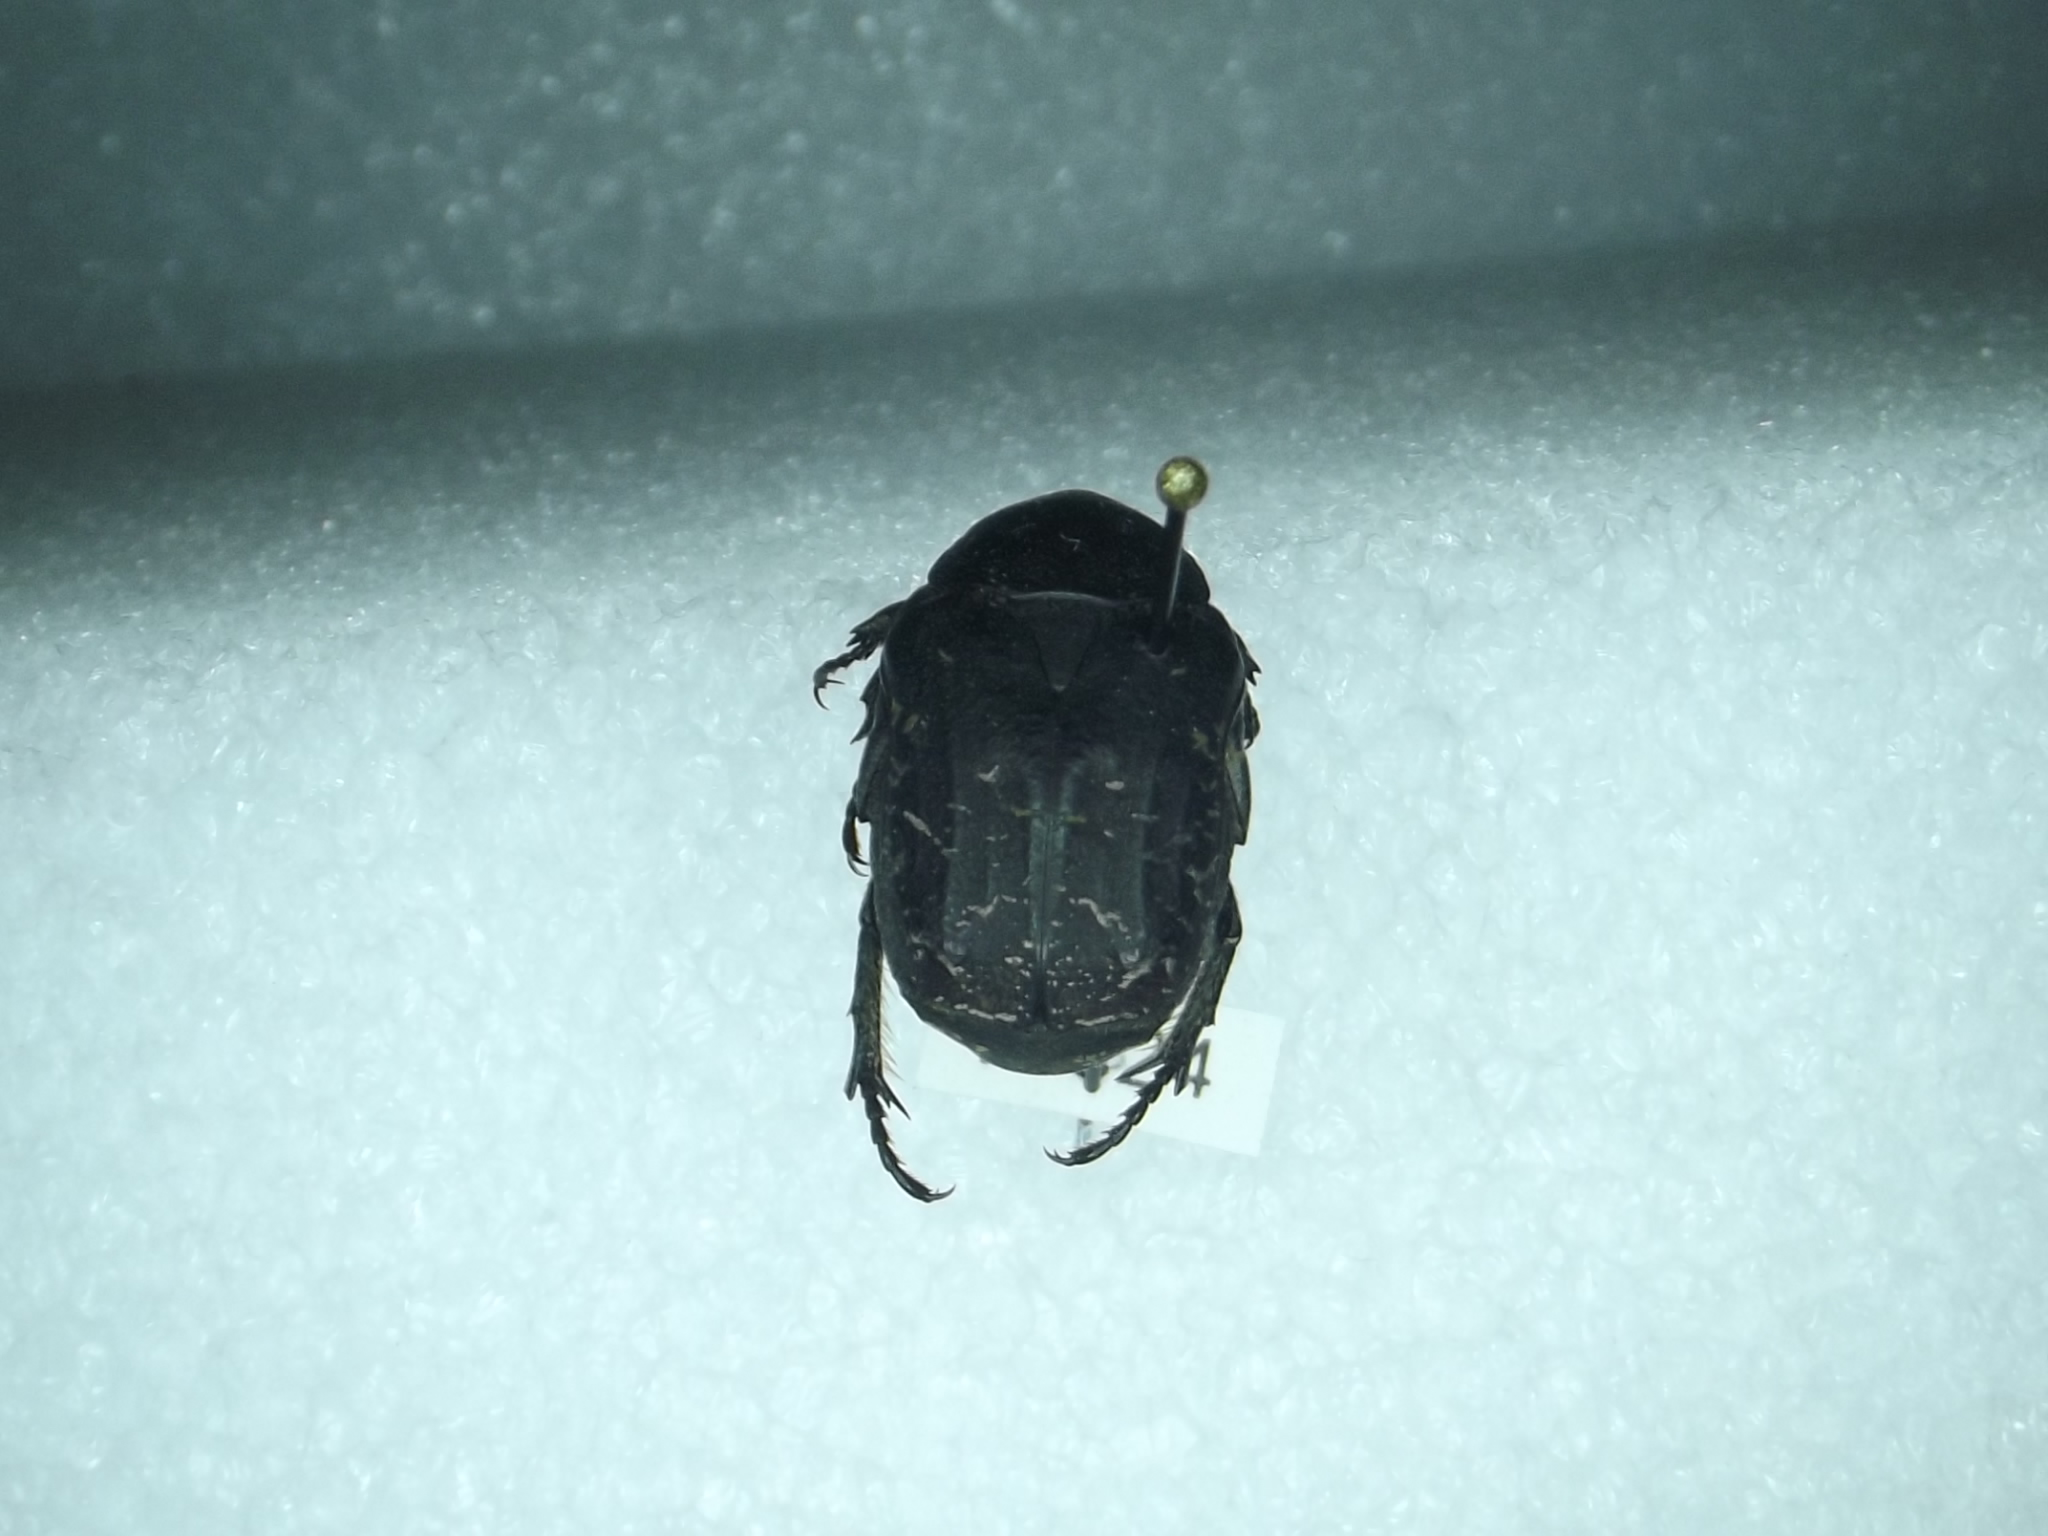Protaetia_oblonga: (801, 474, 1266, 1204)
